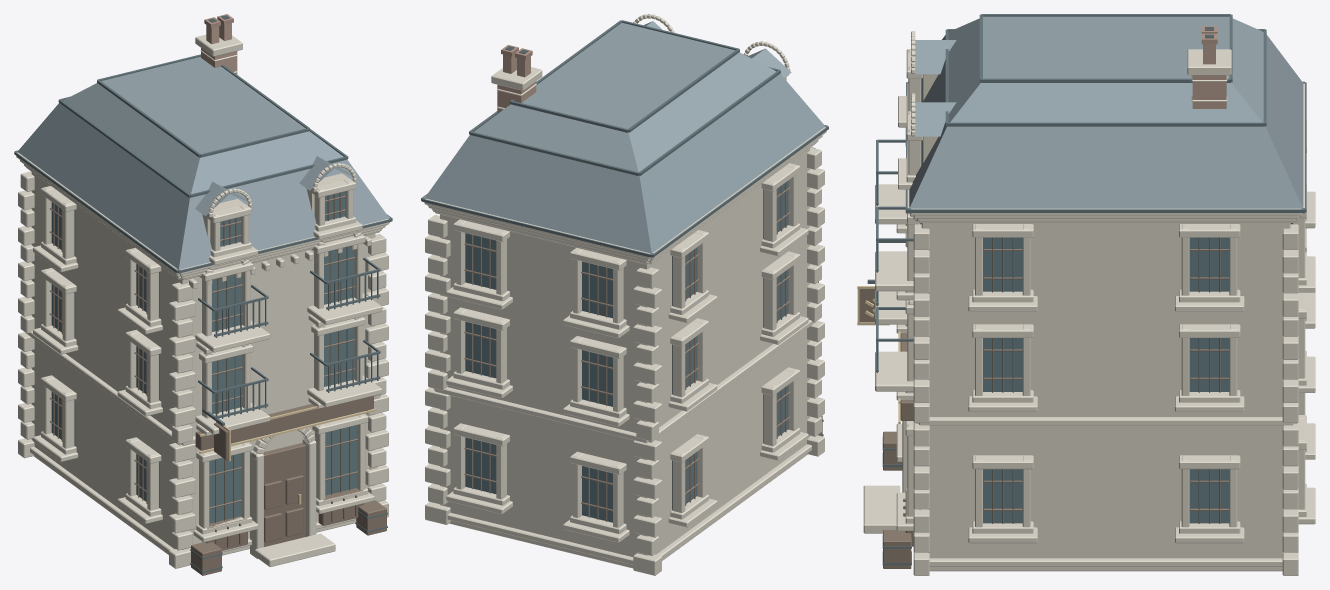
File: Archive.glb
3 views of the same model, side by side, from view 1: azimuth 30°, elevation 25°; view 2: azimuth 150°, elevation 25°; view 3: azimuth 270°, elevation 25° (orthographic). The views are drawn at different scales.
Visible parts, largest first — view 1: Archive_limestone, Archive_roof, Archive_oak, Archive_glass, Archive_iron, Archive_brick, Archive_brass, Archive_plaster, Archive_dark; view 2: Archive_limestone, Archive_roof, Archive_glass, Archive_iron, Archive_oak, Archive_brick; view 3: Archive_limestone, Archive_roof, Archive_glass, Archive_iron, Archive_oak, Archive_brick.
Boxes of the visible parts, x1=… form: Archive_limestone: x1=16, y1=34, x2=389, y2=568; Archive_roof: x1=17, y1=57, x2=389, y2=269; Archive_oak: x1=49, y1=192, x2=386, y2=575; Archive_glass: x1=51, y1=191, x2=357, y2=523; Archive_iron: x1=14, y1=54, x2=392, y2=572; Archive_brick: x1=201, y1=23, x2=237, y2=74; Archive_brass: x1=199, y1=406, x2=376, y2=504; Archive_plaster: x1=202, y1=173, x2=348, y2=236; Archive_dark: x1=74, y1=15, x2=229, y2=507; Archive_limestone: x1=424, y1=14, x2=826, y2=575; Archive_roof: x1=424, y1=21, x2=825, y2=253; Archive_glass: x1=465, y1=180, x2=788, y2=522; Archive_iron: x1=421, y1=20, x2=828, y2=436; Archive_oak: x1=464, y1=182, x2=822, y2=521; Archive_brick: x1=497, y1=54, x2=536, y2=113; Archive_limestone: x1=863, y1=31, x2=1315, y2=575; Archive_roof: x1=909, y1=16, x2=1303, y2=208; Archive_glass: x1=983, y1=237, x2=1229, y2=522; Archive_iron: x1=867, y1=14, x2=1306, y2=565; Archive_oak: x1=859, y1=237, x2=1229, y2=568; Archive_brick: x1=1192, y1=44, x2=1226, y2=108.
Bounding box in the file's own units: 5.68 × 10.14 × 8.08.
